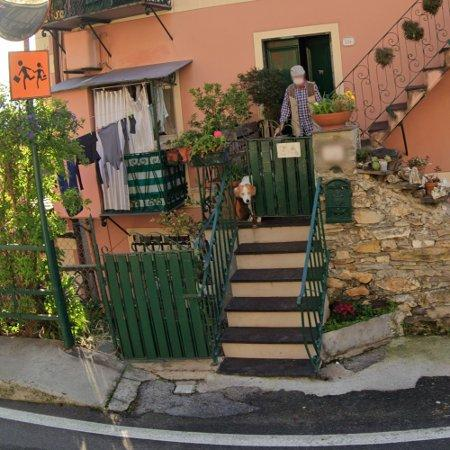stairs: (219, 179, 329, 377)
